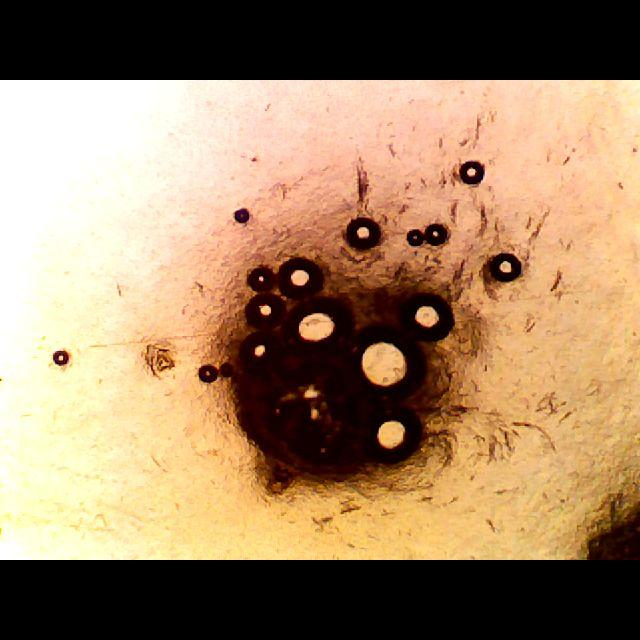microbeads: (200, 216, 462, 494)
